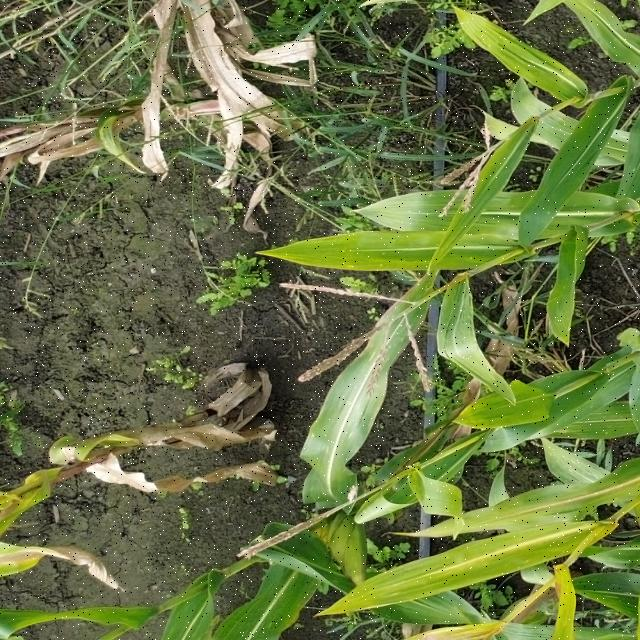gray-leaf-spot: (293, 391, 368, 494)
southern-leaf-blight: (534, 434, 623, 520), (331, 243, 492, 280)
